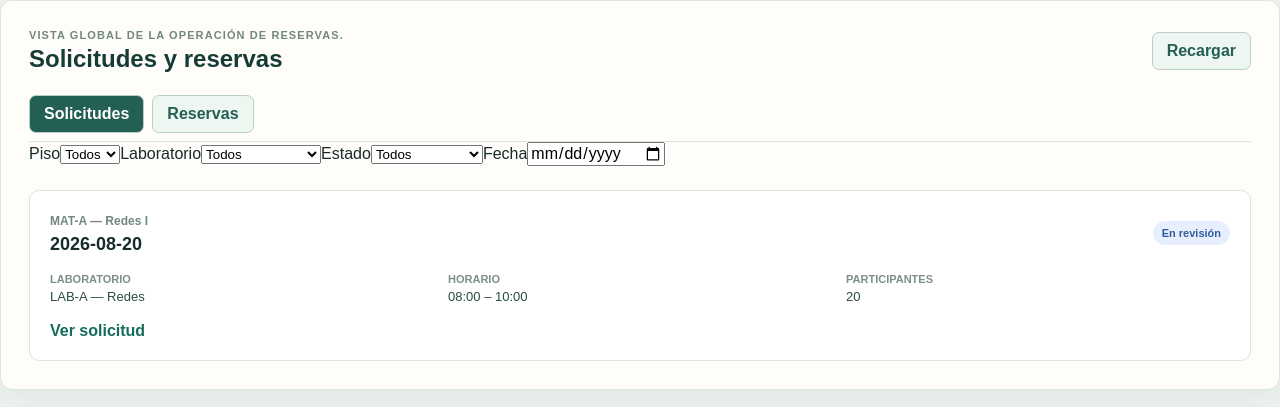
Test: ReservasListPage › ADMIN filtra globalmente por piso, laboratorio, estado y fecha
The image size is (1280, 407).
Expected: the text "MAT-A — Redes I" is shown, 50,214 -> 148,228
Select "Piso 1" in the dropdown labelled "Piso" at (90, 154), box 60,145 -> 120,164
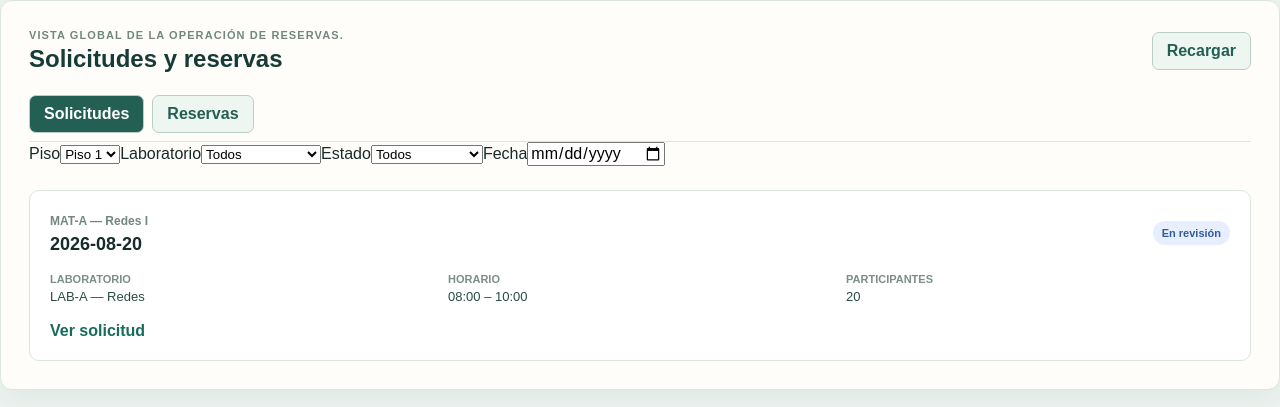
Select "LAB-A — Redes" in the dropdown labelled "Laboratorio" at (261, 154), box 201,145 -> 321,164
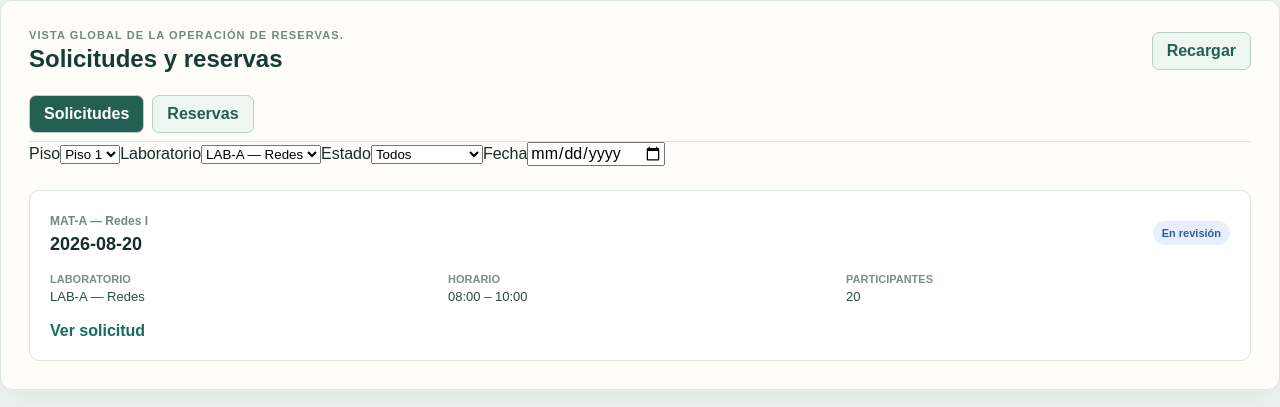
Select "EN_REVISION" in the dropdown labelled "Estado" at (427, 154), box 371,145 -> 483,164
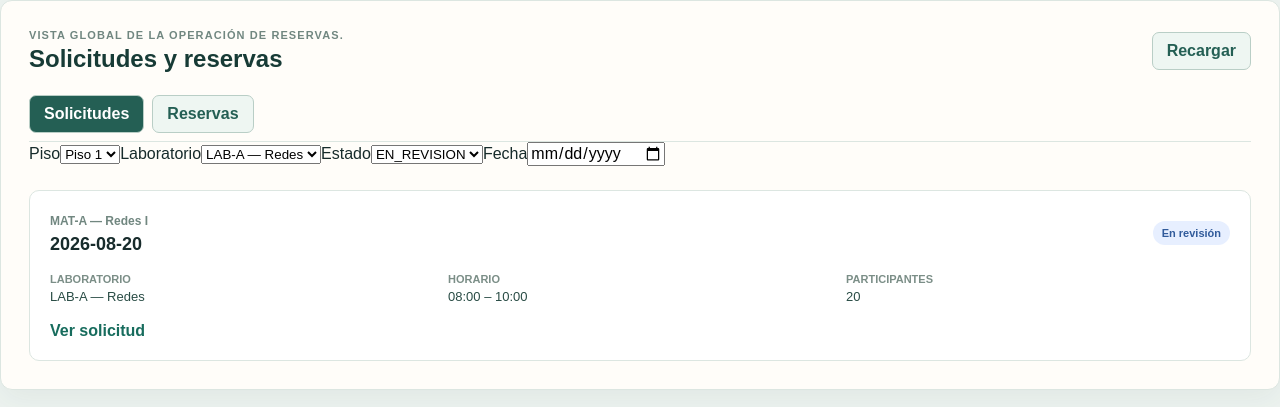
Type "2026-08-20" into the date field labelled "Fecha" at (596, 154), box 527,142 -> 665,166
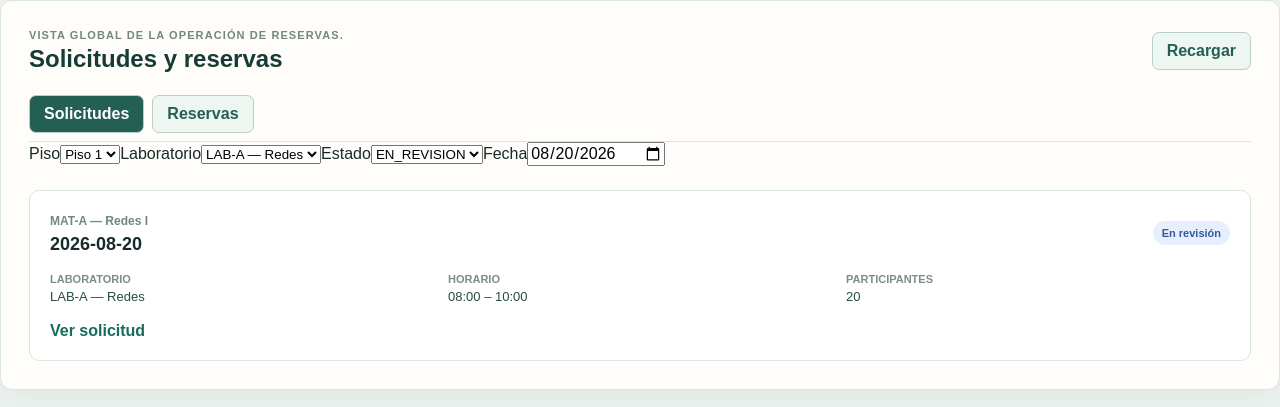
Expected: the text "MAT-A — Redes I" is shown, 50,214 -> 148,228
Type "2026-08-21" into the date field labelled "Fecha" at (596, 154), box 527,142 -> 665,166
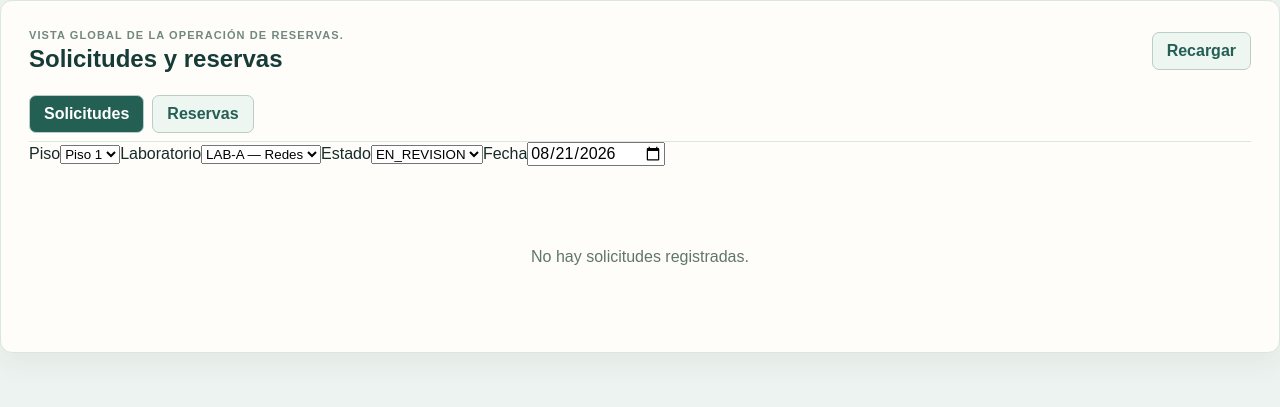
Now the text "No hay solicitudes registradas." is shown, box 531,248 -> 749,265
